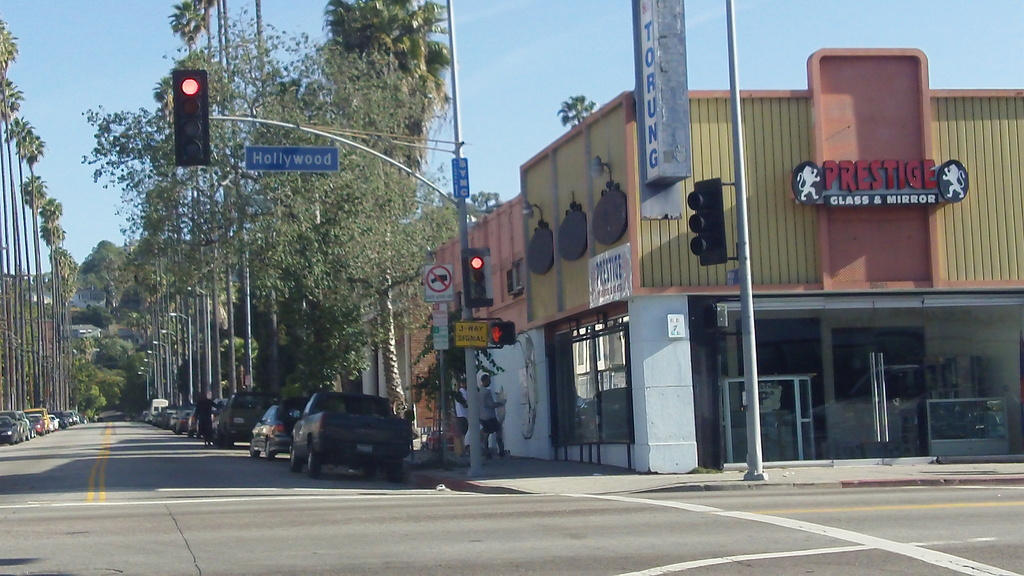red_light: (174, 73, 206, 165), (464, 250, 488, 307)
